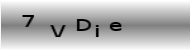7: (21, 14, 35, 28)
D: (76, 18, 92, 32)
V: (49, 24, 67, 38)
e: (109, 21, 123, 32)
i: (94, 24, 100, 38)
